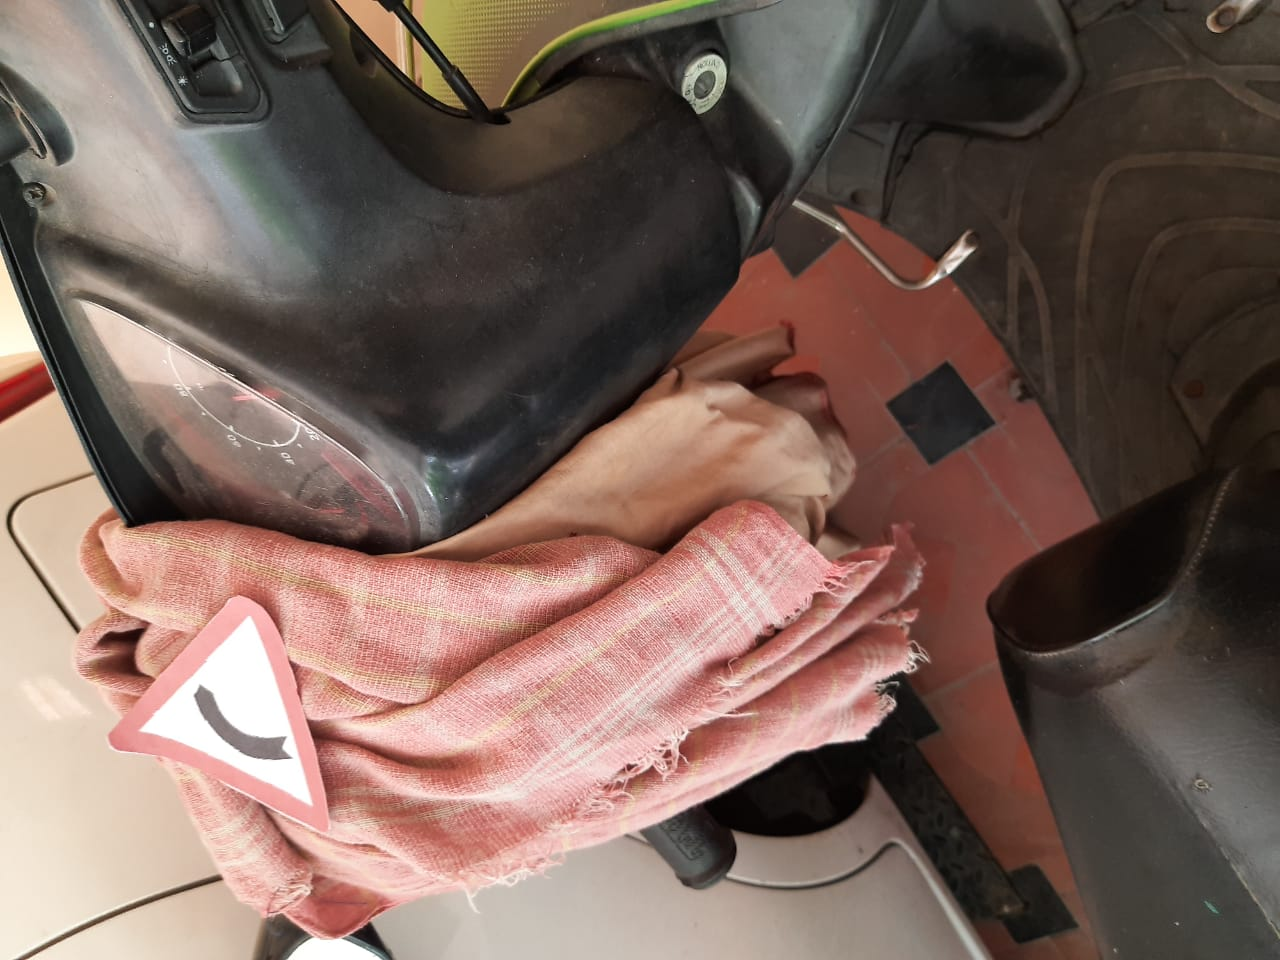RIGHT CURVE: (102, 598, 346, 830)
